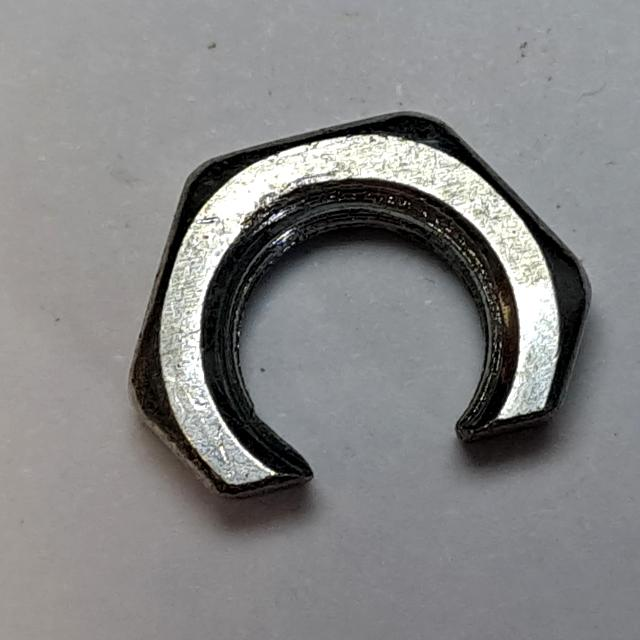Fracture: (111, 75, 603, 521)
